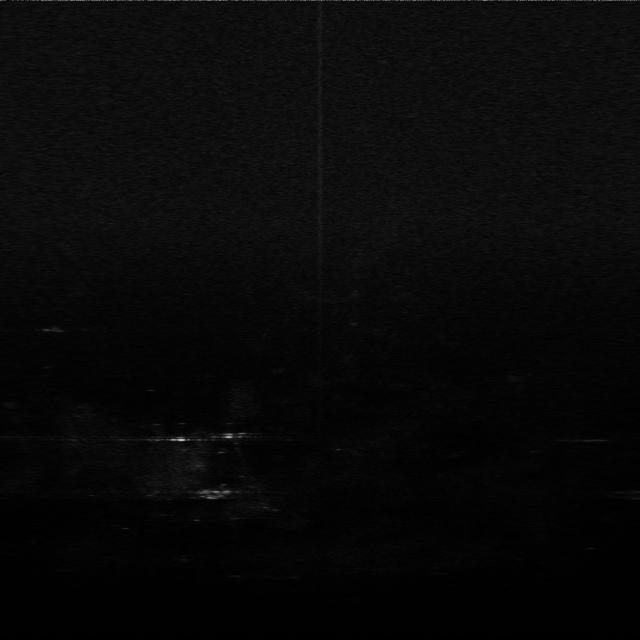rov: (193, 484, 236, 504)
